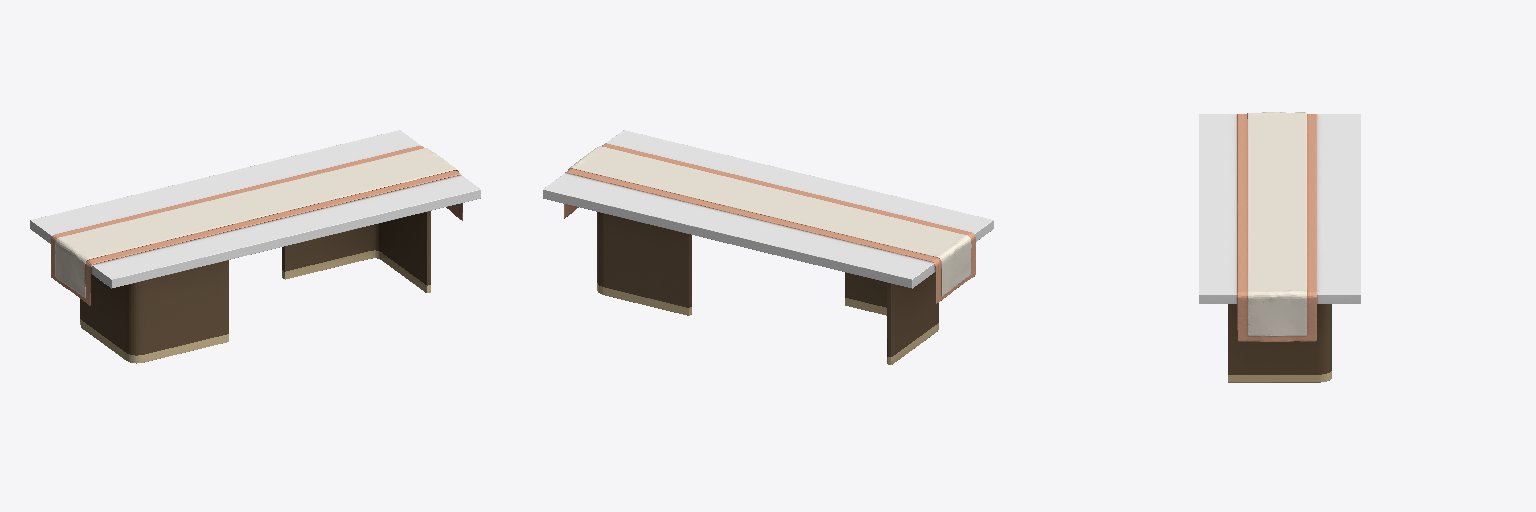
The picture shows the model from 3 angles: view 1: azimuth 30°, elevation 25°; view 2: azimuth 150°, elevation 25°; view 3: azimuth 270°, elevation 25°; orthographic projection.
Visible parts, largest first — view 1: solid_005, solid_001, solid_003, solid_004, solid_002; view 2: solid_005, solid_003, solid_001, solid_004, solid_002; view 3: solid_005, solid_003, solid_004, solid_001, solid_002.
Boxes of the visible parts, box(x1,y1,x2,y2) form: solid_005: box(30, 130, 480, 288); solid_001: box(80, 211, 430, 355); solid_003: box(55, 148, 458, 298); solid_004: box(51, 146, 462, 305); solid_002: box(80, 250, 430, 363); solid_005: box(543, 130, 993, 288); solid_003: box(568, 146, 971, 296); solid_001: box(597, 212, 938, 356); solid_004: box(564, 143, 975, 303); solid_002: box(597, 283, 938, 364); solid_005: box(1199, 114, 1360, 303); solid_003: box(1247, 112, 1306, 336); solid_004: box(1237, 114, 1316, 341); solid_001: box(1228, 304, 1331, 374); solid_002: box(1228, 371, 1331, 382).
Size of the model in its own units: 2 by 0.5494 by 0.7506.
Materials: 1 (1 with a texture image).